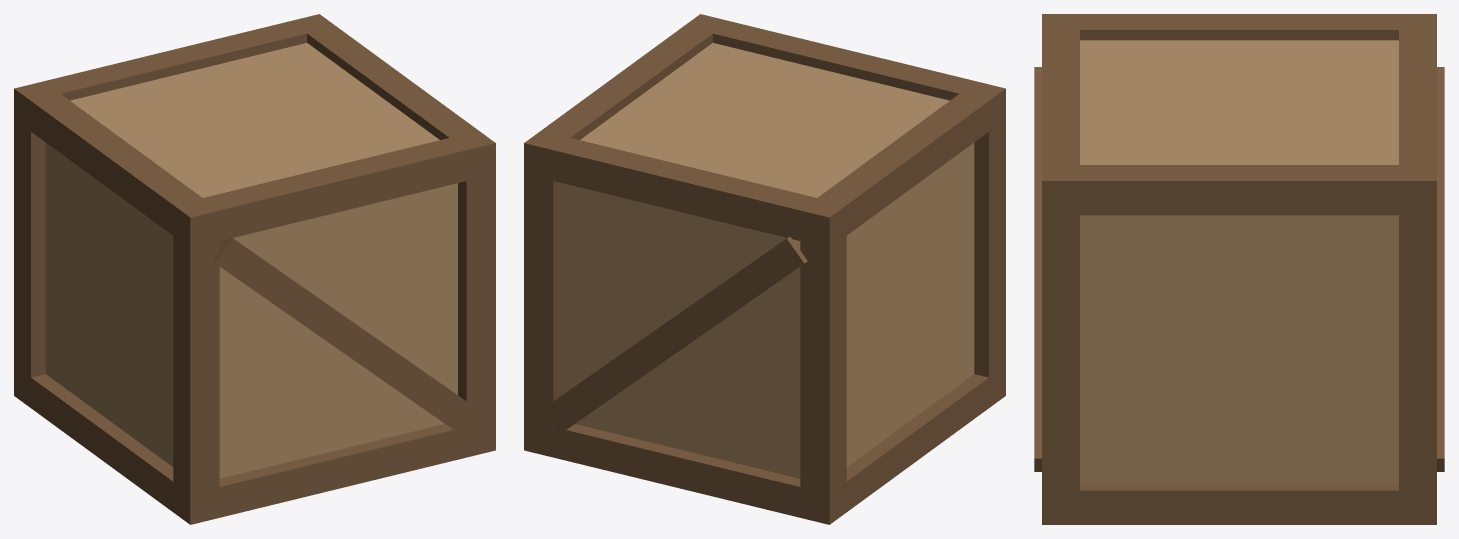
The model's file is sm_crate.glb.
3 renders of one model, left to right at view 1: azimuth 30°, elevation 25°; view 2: azimuth 150°, elevation 25°; view 3: azimuth 270°, elevation 25°, orthographic. The views are drawn at different scales.
Visible parts, largest first — view 1: sm_crate; view 2: sm_crate; view 3: sm_crate.
Boxes of the visible parts, box(x1,y1,x2,y2) form: sm_crate: box(14, 14, 495, 524); sm_crate: box(524, 14, 1005, 524); sm_crate: box(1034, 14, 1444, 524).
Size of the model in its own units: 1.04 by 1 by 1.08.
